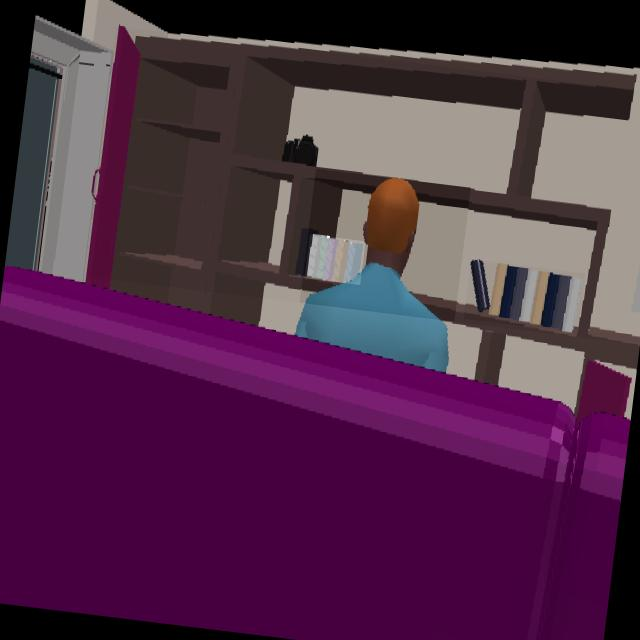book: (470, 260, 582, 331), (304, 234, 363, 283)
bookshelf: (86, 27, 639, 385)
person: (295, 179, 450, 371)
sofa: (0, 266, 629, 640)
